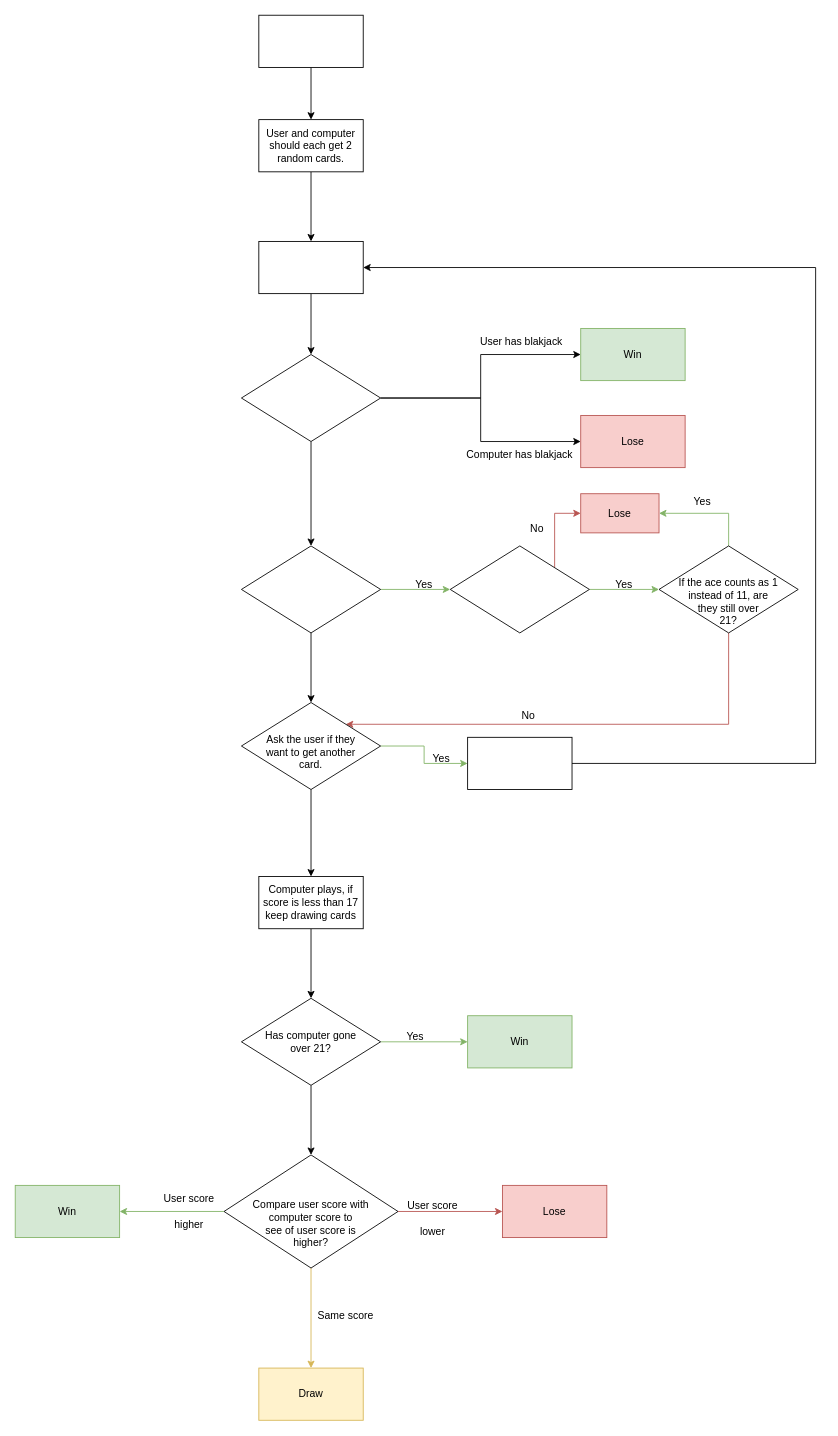
Image size: 838x1436. Some labels were removed from this diagram. The shapes that lost their labels are listed below. From the top down, each one's centre as x and y in pixels, then its label:
(x=310, y=40): Start
(x=310, y=267): Add up the user's and the computer's scores
(x=311, y=398): Does the user or computer have blackjack?
(x=311, y=589): Is user's score over 21?
(x=519, y=589): Do they have and "Ace"?
(x=519, y=763): Draw another card
